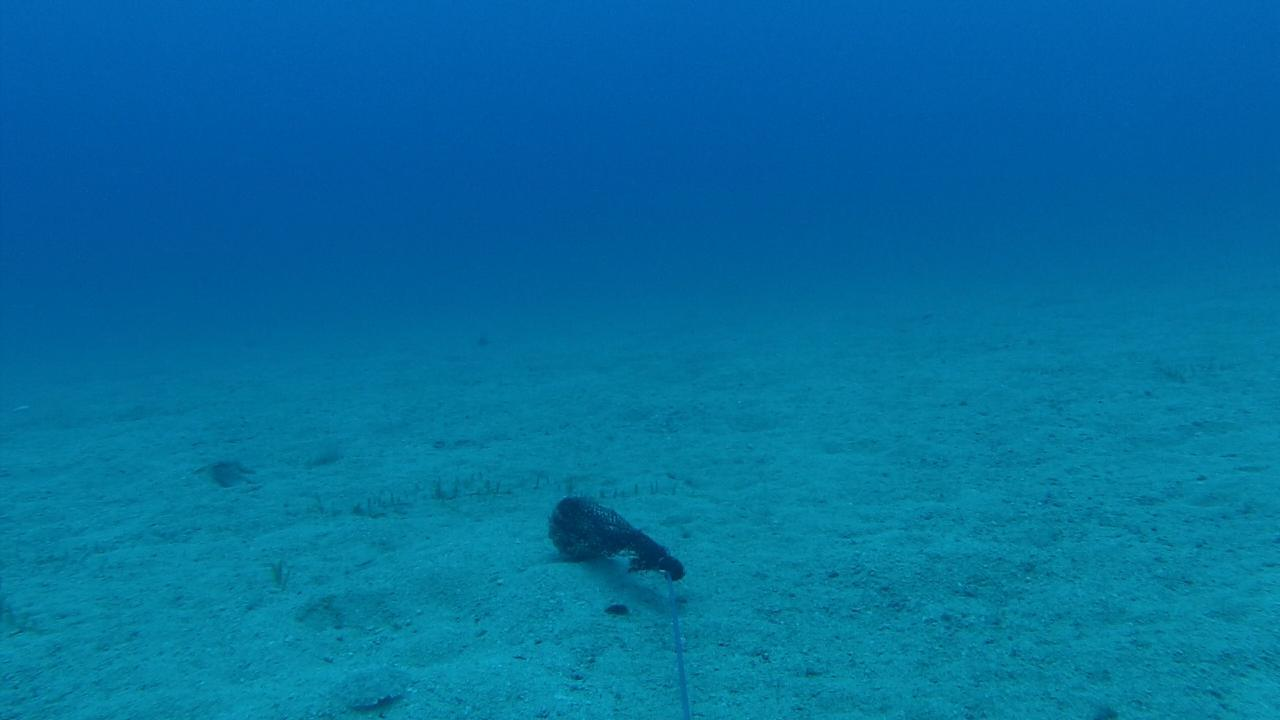bothus: (320, 660, 418, 712)
